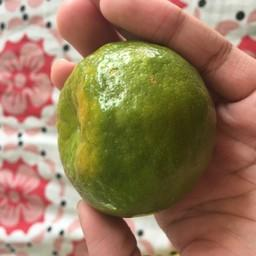Good_orange: (49, 35, 224, 216)
